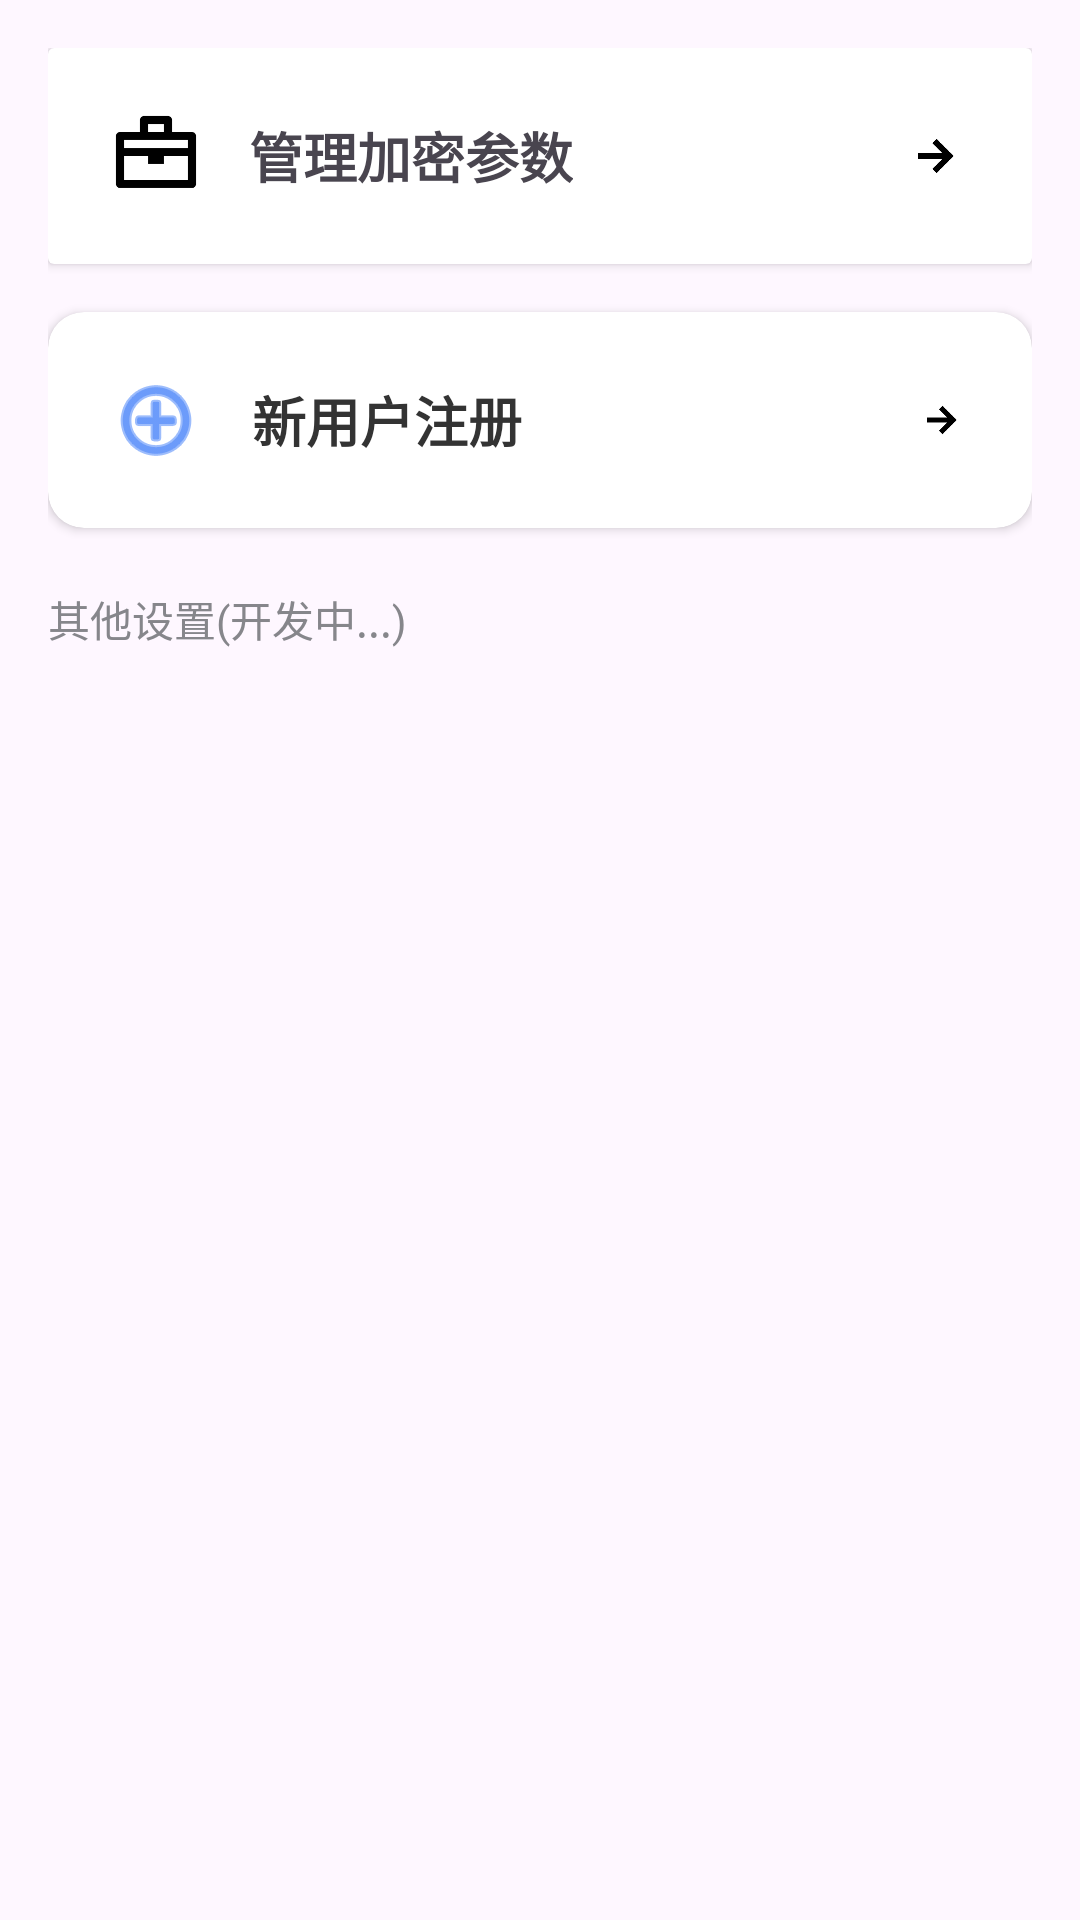

Locate icon controls on the screen. Image size 1080px×1920px, boxes as (x1, y1, x2, y2).
add: (120, 385, 192, 456)
